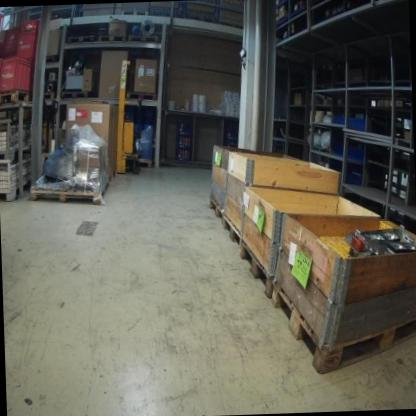pallet: (273, 276, 416, 378), (241, 240, 275, 302), (29, 185, 111, 207), (223, 214, 242, 258), (0, 87, 33, 105), (207, 195, 224, 228), (126, 88, 159, 103), (97, 33, 129, 44), (129, 34, 161, 45), (61, 89, 90, 100), (68, 35, 97, 44), (41, 89, 56, 101), (137, 159, 152, 170), (107, 168, 117, 184)
pallet_truck: (40, 96, 62, 161)
small_load_carrier: (0, 54, 36, 98), (20, 15, 40, 63), (7, 25, 24, 60), (0, 56, 3, 93)
stillage: (0, 151, 50, 206), (0, 117, 43, 152)
